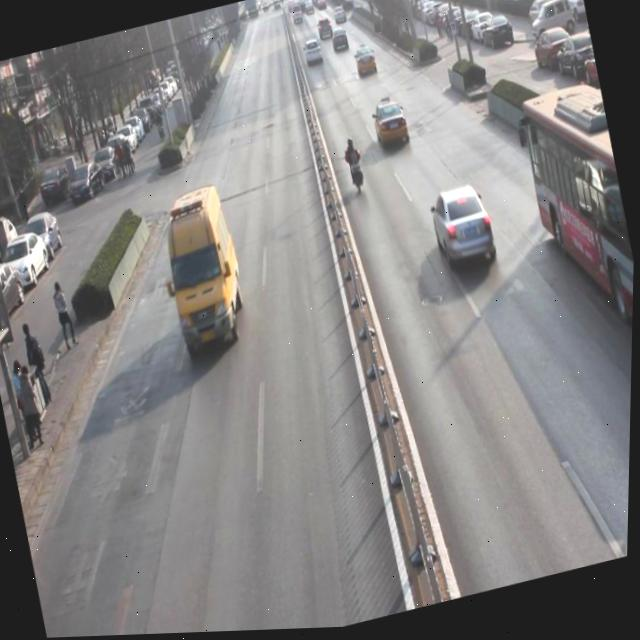car: (425, 181, 505, 290), (369, 93, 414, 159), (352, 44, 381, 84), (301, 36, 327, 74), (316, 14, 337, 47), (329, 26, 351, 57)
truck: (154, 185, 260, 365)
van: (510, 83, 638, 354)
